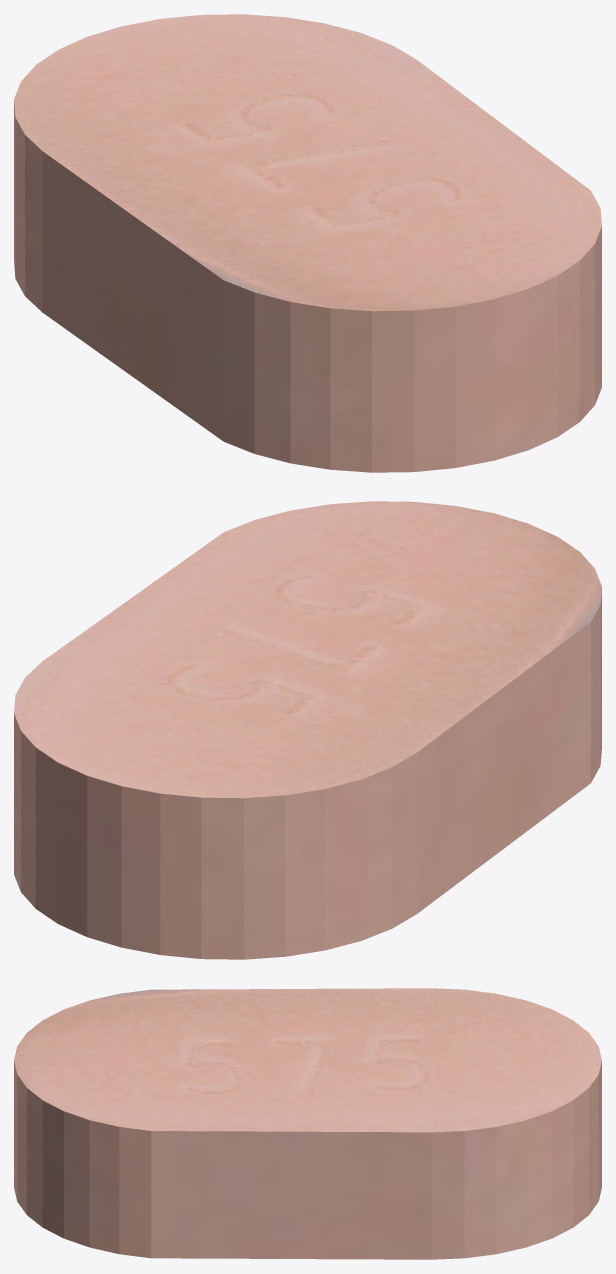
3 views of the same model, one above another, from view 1: azimuth 30°, elevation 25°; view 2: azimuth 150°, elevation 25°; view 3: azimuth 270°, elevation 25° (orthographic). The views are drawn at different scales.
Visible parts, largest first — view 1: 圓柱體; view 2: 圓柱體; view 3: 圓柱體.
Boxes of the visible parts, x1,y1,x2,y2 form: 圓柱體: [14, 14, 601, 472]; 圓柱體: [14, 501, 601, 959]; 圓柱體: [14, 988, 601, 1259].
Bounding box in the file's own units: 1.7 × 0.7007 × 2.93.
Materials: 1 (1 with a texture image).
